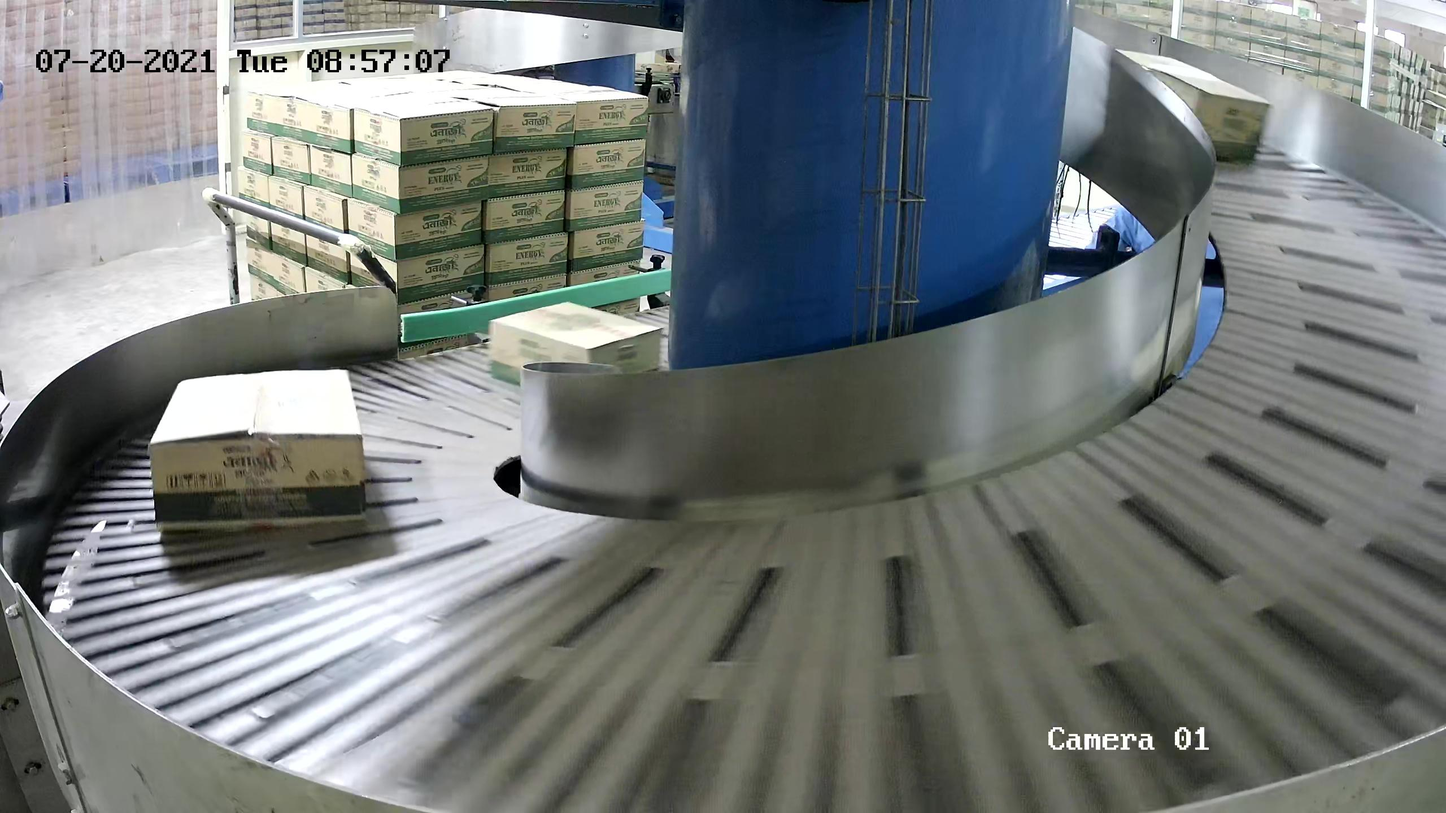Box: (147, 367, 369, 532), (1112, 46, 1272, 159), (487, 300, 665, 389)
